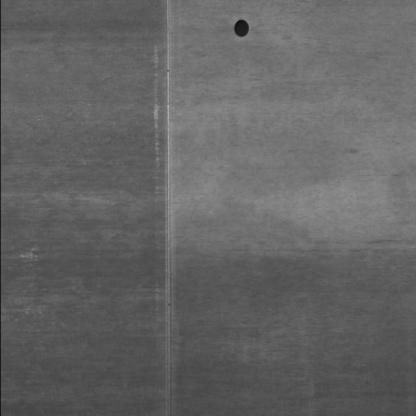punching_hole: (226, 17, 253, 47)
welding_line: (155, 2, 187, 416)
